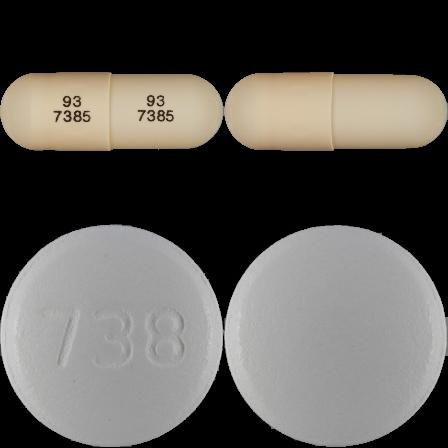63187-177: (0, 0, 224, 224)
